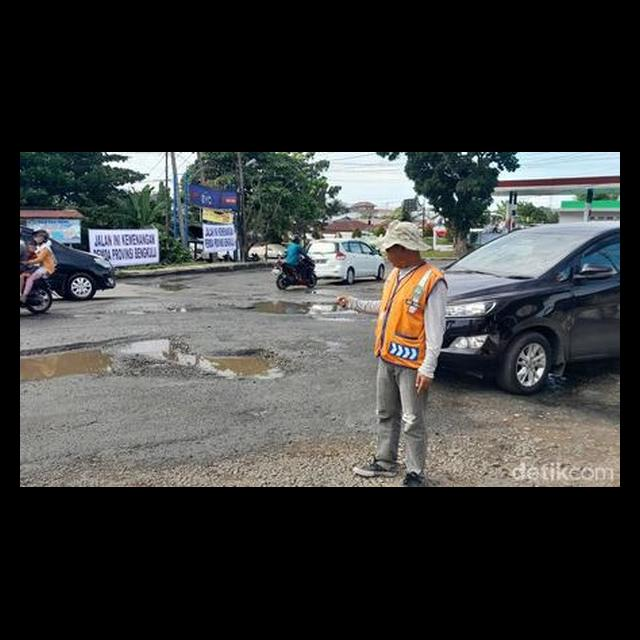lubang_kecil: (28, 333, 317, 412), (228, 291, 337, 324), (143, 296, 224, 321)
